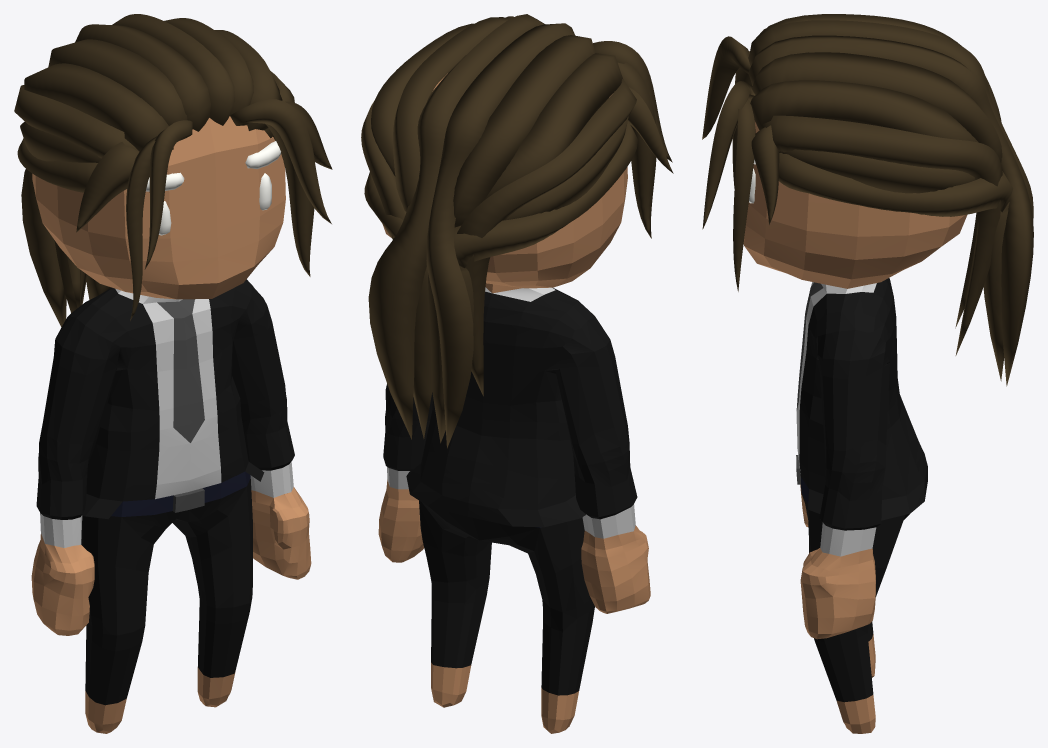
Rendered from debout-suit-female.glb.
The picture shows the model from 3 angles, left to right: view 1: azimuth 30°, elevation 25°; view 2: azimuth 150°, elevation 25°; view 3: azimuth 270°, elevation 25°; orthographic projection.
Parts seen in each view (by area): view 1: Cube004_1, Cube004_6, Cube004, Cube004_3, Cube004_4, Cube004_2, Cube004_5; view 2: Cube004_6, Cube004_1, Cube004, Cube004_3; view 3: Cube004_6, Cube004_1, Cube004, Cube004_3.
Boxes of the visible parts, x1,y1,x2,y2 form: Cube004_1: (36,279,294,705); Cube004_6: (14,14,332,327); Cube004: (31,116,311,733); Cube004_3: (40,289,293,547); Cube004_4: (157,299,204,512); Cube004_2: (111,471,250,516); Cube004_5: (146,141,280,235); Cube004_6: (361,14,673,448); Cube004_1: (383,288,637,695); Cube004: (378,73,650,733); Cube004_3: (387,287,635,538); Cube004_6: (702,14,1033,386); Cube004_1: (799,278,927,702); Cube004: (743,120,967,733); Cube004_3: (796,282,876,556).
Size of the model in its own units: 0.6804 by 1.67 by 0.7422.
